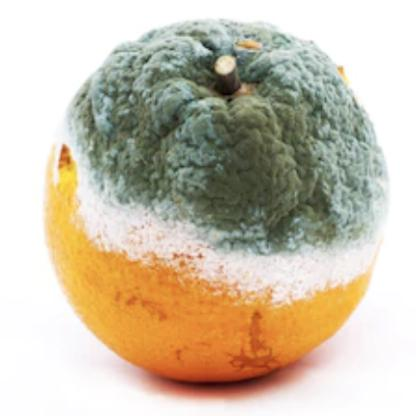rotten: (44, 11, 385, 388)
